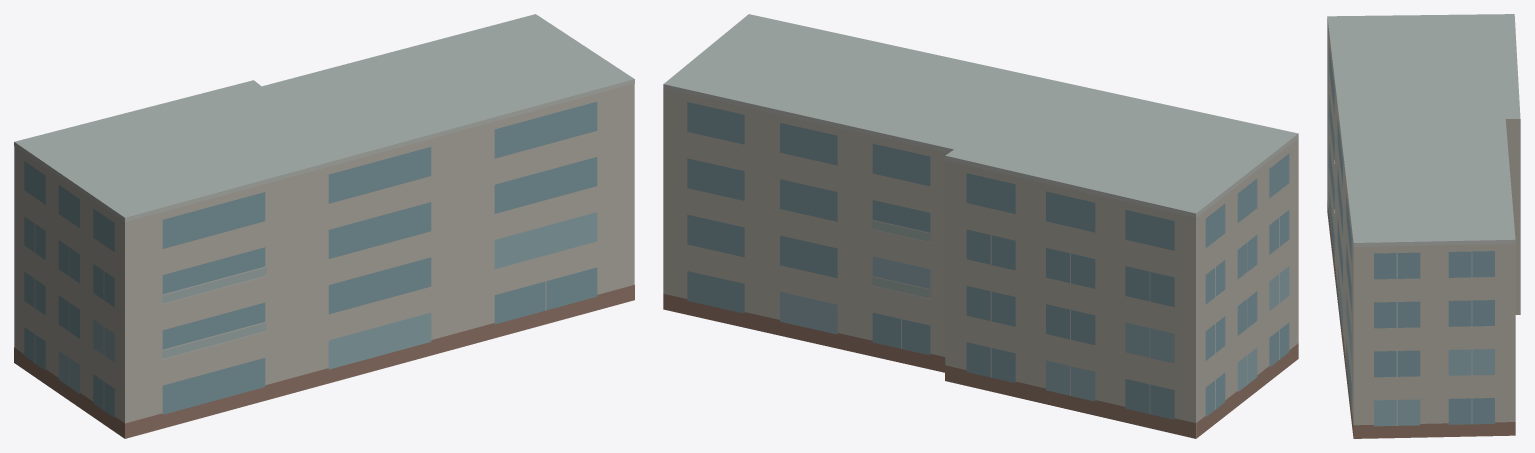
File: survey-upis-32841317.glb
The picture shows the model from 3 angles, left to right: view 1: azimuth 30°, elevation 25°; view 2: azimuth 150°, elevation 25°; view 3: azimuth 270°, elevation 25°; orthographic projection. The views are drawn at different scales.
Parts seen in each view (by area): view 1: survey-upis-32841317.tmp; view 2: survey-upis-32841317.tmp; view 3: survey-upis-32841317.tmp.
Boxes of the visible parts, bbox=[...] form: survey-upis-32841317.tmp: bbox=[14, 14, 634, 438]; survey-upis-32841317.tmp: bbox=[663, 14, 1298, 438]; survey-upis-32841317.tmp: bbox=[1327, 14, 1520, 438].
Bounding box in the file's own units: 30.35 × 12.1 × 10.82.
